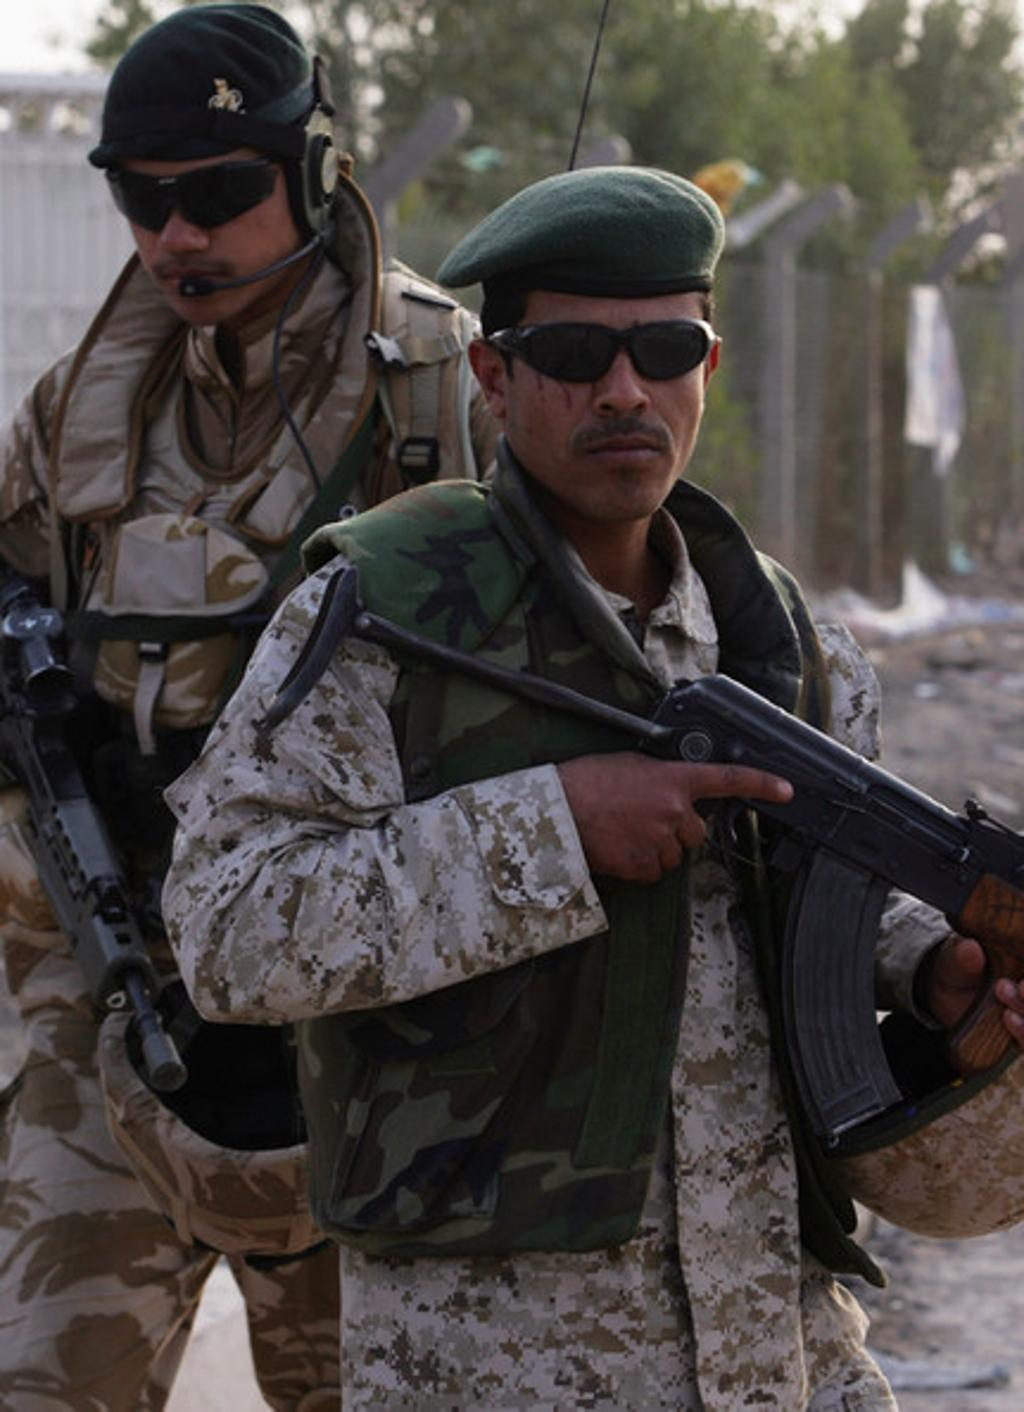face: (504, 275, 708, 520), (127, 124, 303, 322)
